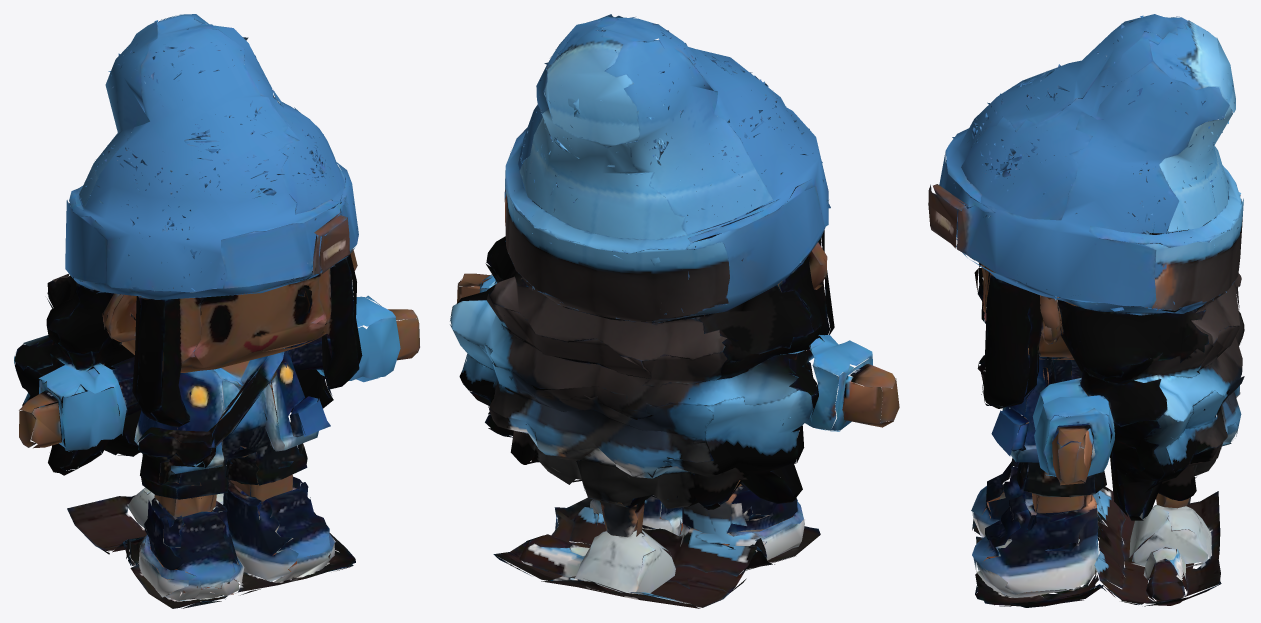
Rendered from zen_trellis_v2.glb.
3 renders of one model, left to right at view 1: azimuth 30°, elevation 25°; view 2: azimuth 150°, elevation 25°; view 3: azimuth 270°, elevation 25°, orthographic. The views are drawn at different scales.
Visible parts, largest first — view 1: Body; view 2: Body; view 3: Body.
Part boxes in pixels (box(x1,y1,x2,y2)): Body: box(14, 14, 419, 608); Body: box(450, 14, 899, 608); Body: box(928, 14, 1244, 607).
Size of the model in its own units: 0.5817 by 0.72 by 0.3792.
1 material, 1 textured.
